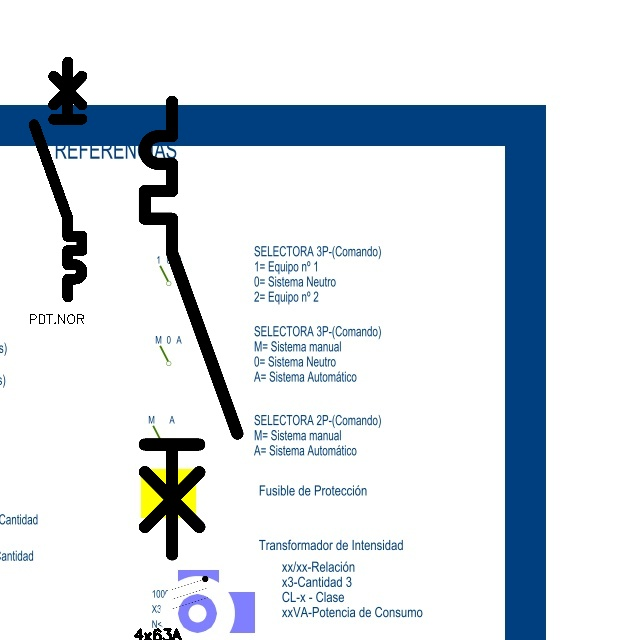interruptor_termomagnetico: (133, 90, 249, 566), (28, 56, 88, 303)
